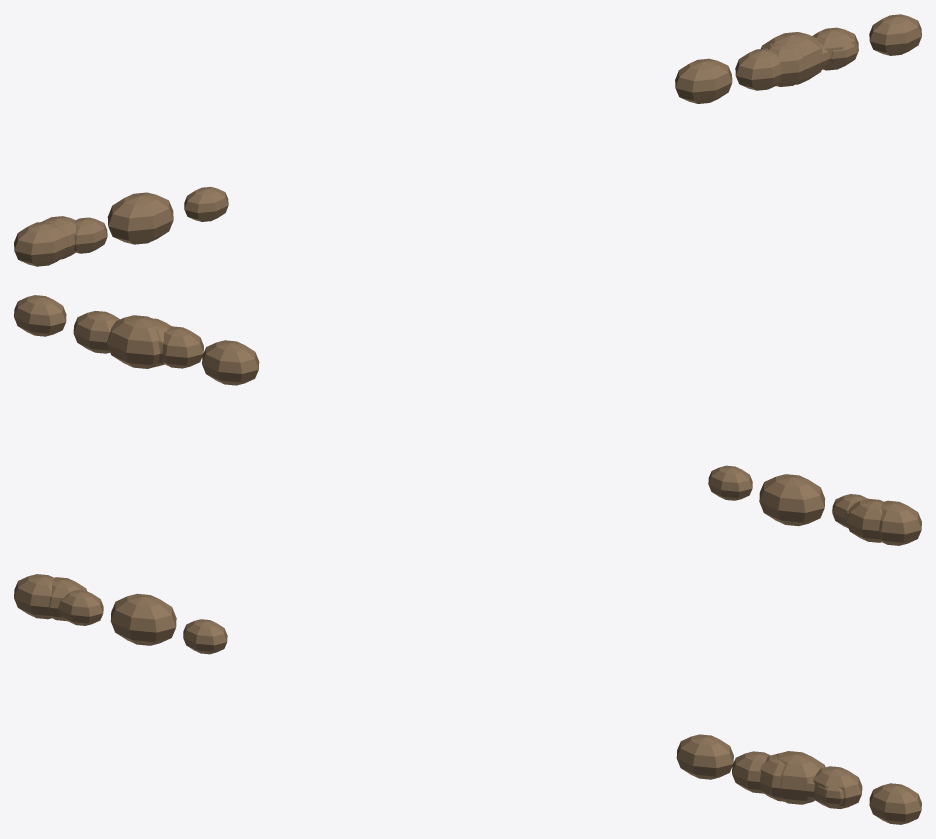
Rendered from HokageRockBoulders.fbx.
3 renders of one model, top to bottom at view 1: azimuth 30°, elevation 25°; view 2: azimuth 150°, elevation 25°; view 3: azimuth 330°, elevation 25°, orthographic.
Visible parts, largest first — view 1: Boulder0.001; view 2: Boulder0.001; view 3: Boulder0.001.
Boxes of the visible parts, x1=… form: Boulder0.001: x1=14, y1=14, x2=921, y2=266; Boulder0.001: x1=14, y1=295, x2=921, y2=545; Boulder0.001: x1=14, y1=574, x2=921, y2=824.
Bounding box in the file's own units: 15692 × 774 × 908.
